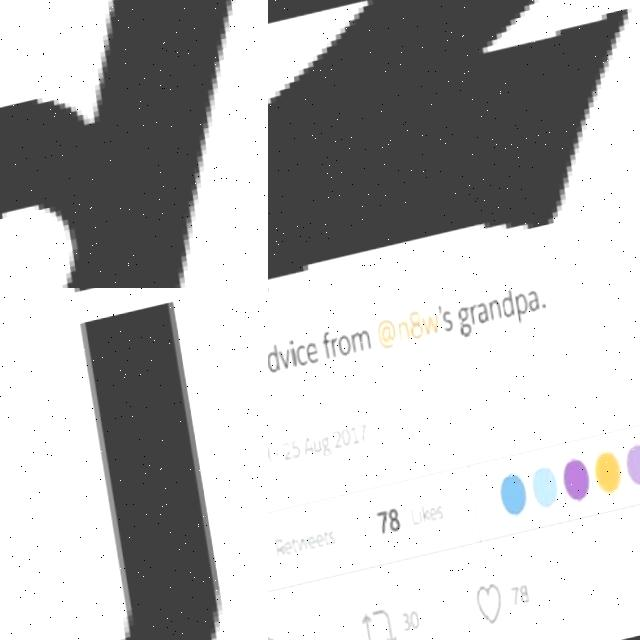0: (404, 614, 417, 636), (337, 428, 347, 450)
1: (346, 428, 356, 449)
2: (327, 432, 340, 453), (278, 441, 289, 463)
3: (396, 615, 407, 637)
5: (287, 441, 298, 461)
7: (372, 513, 386, 538), (504, 592, 517, 614), (354, 425, 366, 447)
8: (405, 312, 421, 345), (382, 512, 397, 538), (514, 590, 524, 612)
D: (0, 0, 268, 288)
J: (0, 288, 236, 640)
Z: (268, 0, 640, 288)
